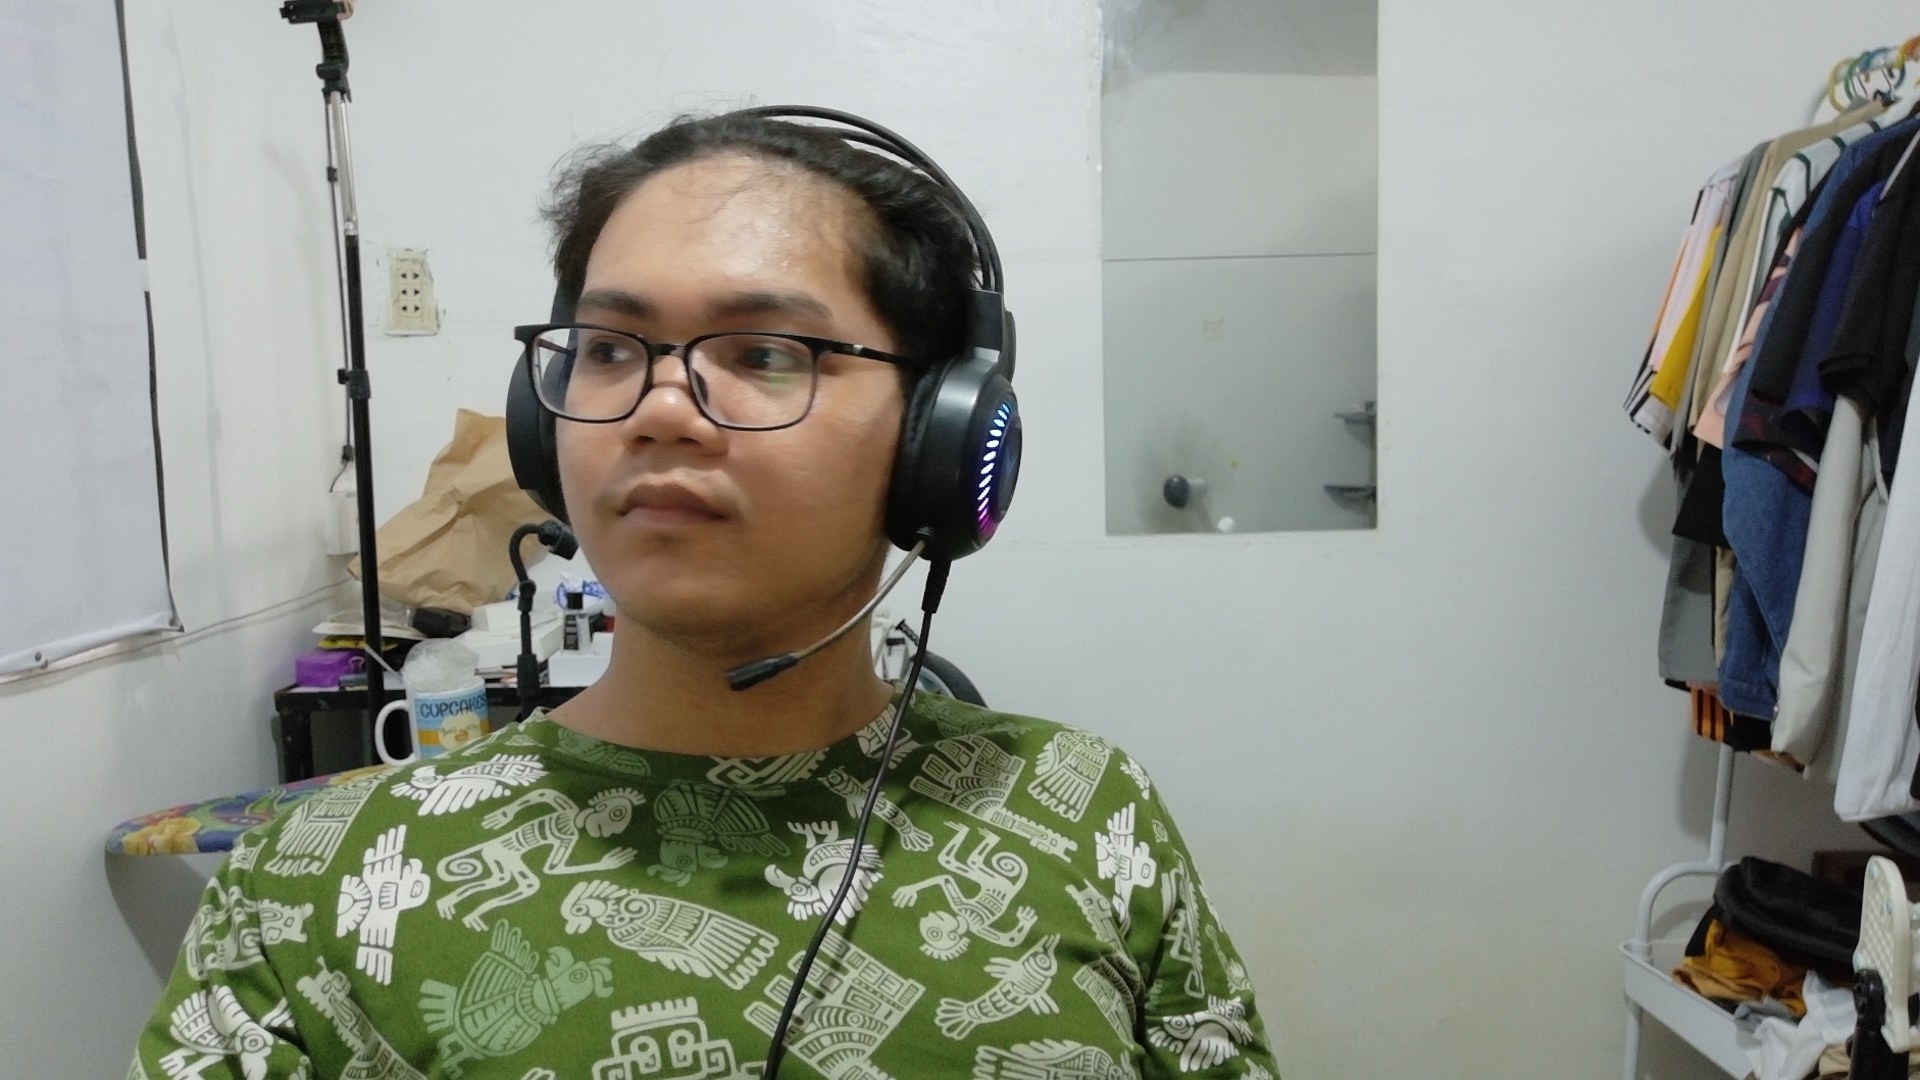face: (476, 102, 1085, 710)
